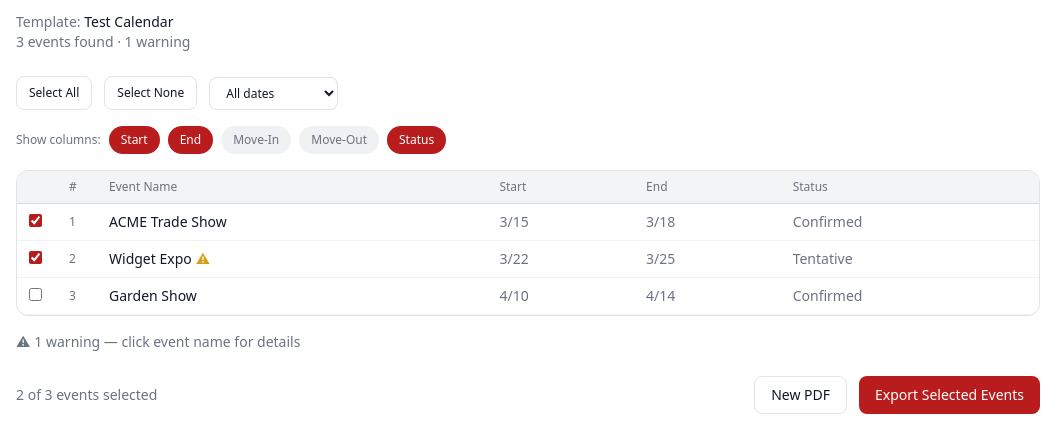
it: ResultsPage › shows Move-In column when toggled on
The image size is (1057, 431).
Click the button "Move-In" at point(256, 140), box [221, 126, 291, 154]
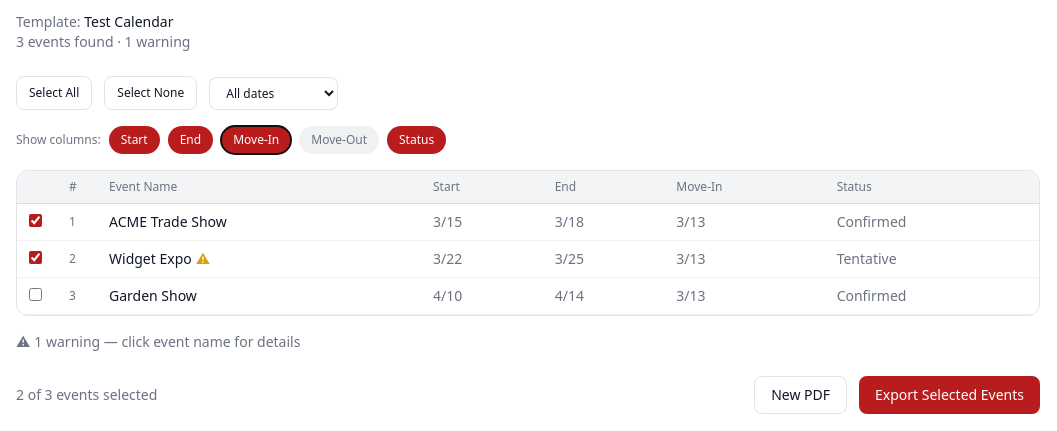
Check: the column heading "Move-In" is shown, box [664, 171, 825, 204]
